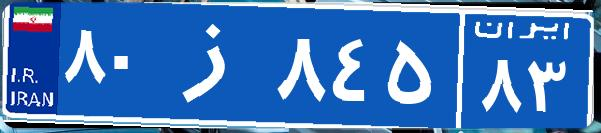0: (110, 28, 158, 105)
3: (525, 38, 570, 115)
4: (330, 28, 385, 110)
5: (385, 28, 445, 110)
8: (273, 28, 330, 110), (57, 26, 110, 107), (475, 38, 525, 113)
ز: (158, 15, 273, 115)
